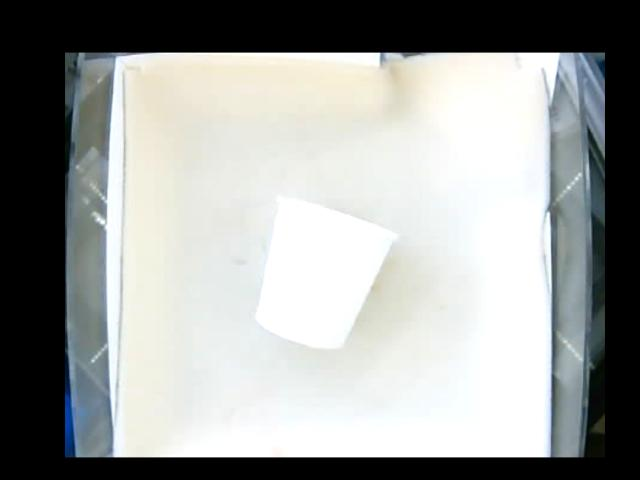Cup: (256, 196, 392, 353)
